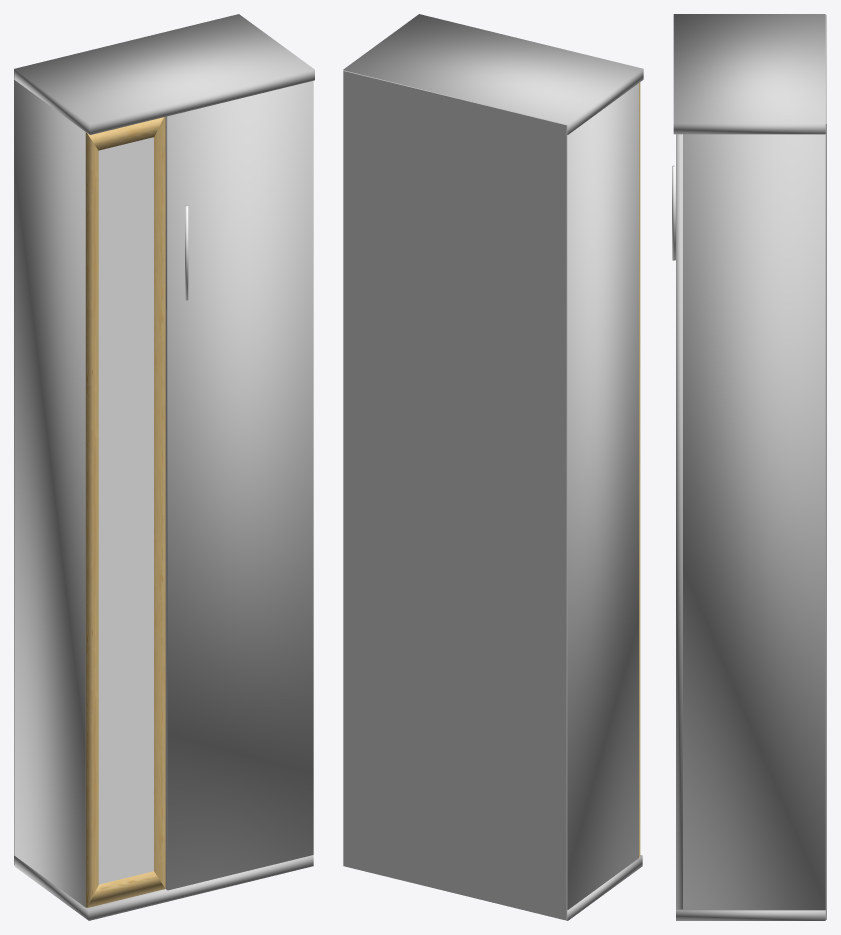
The model's file is livingroom_cabinet.glb.
3 views of the same model, side by side, from view 1: azimuth 30°, elevation 25°; view 2: azimuth 150°, elevation 25°; view 3: azimuth 270°, elevation 25° (orthographic).
Parts seen in each view (by area): view 1: right cabinet.002; view 2: right cabinet.002; view 3: right cabinet.002.
Boxes of the visible parts, x1,y1,x2,y2 form: right cabinet.002: (14,14,314,920); right cabinet.002: (343,14,643,920); right cabinet.002: (672,14,826,920).
Bounding box in the file's own units: 0.59 × 2 × 0.352.
Materials: 4 (1 with a texture image).
